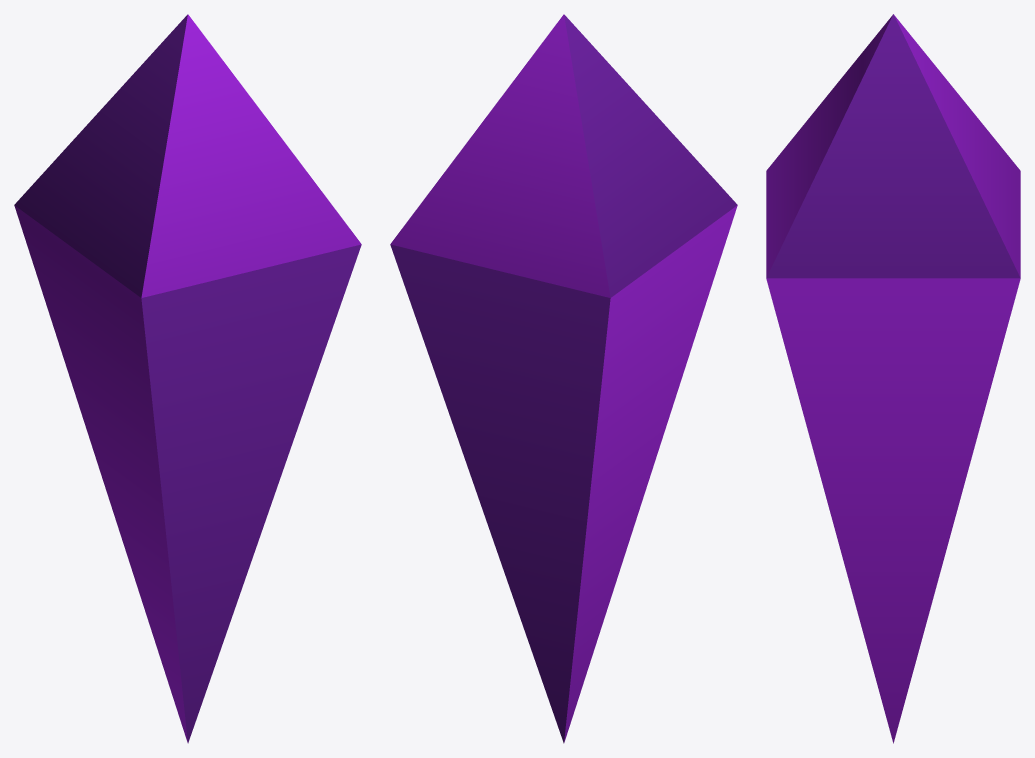
File: BiaoJi.glb
3 views of the same model, side by side, from view 1: azimuth 30°, elevation 25°; view 2: azimuth 150°, elevation 25°; view 3: azimuth 270°, elevation 25° (orthographic).
Parts seen in each view (by area): view 1: biaoji; view 2: biaoji; view 3: biaoji.
Part boxes in pixels (bbox=[...]): biaoji: bbox=[14, 14, 361, 743]; biaoji: bbox=[390, 14, 737, 743]; biaoji: bbox=[766, 14, 1020, 743].
Size of the model in its own units: 0.7661 by 2.42 by 0.7661.
Materials: 2 (2 with a texture image).
